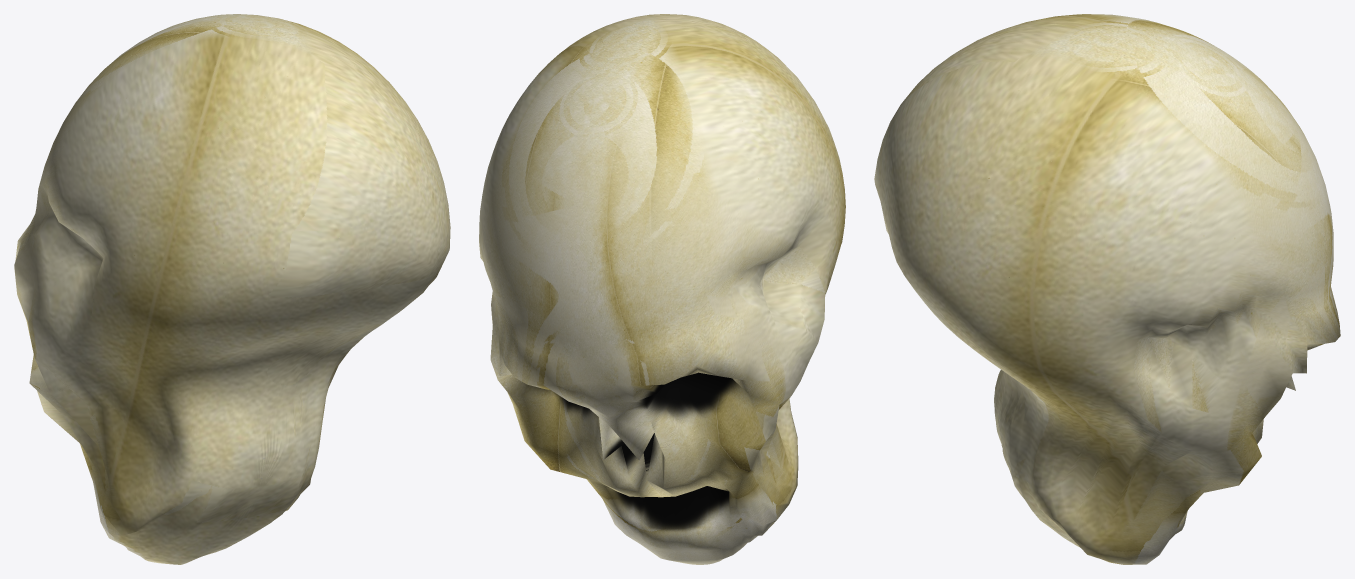
Rendered from Skull.fbx.
3 views of the same model, side by side, from view 1: azimuth 30°, elevation 25°; view 2: azimuth 150°, elevation 25°; view 3: azimuth 270°, elevation 25° (orthographic). The views are drawn at different scales.
Parts seen in each view (by area): view 1: Sphere; view 2: Sphere; view 3: Sphere.
Boxes of the visible parts, <box> form: Sphere: <box>14,14,450,564</box>; Sphere: <box>479,14,845,564</box>; Sphere: <box>874,14,1340,564</box>.
Size of the model in its own units: 40.31 by 60.58 by 46.22.
